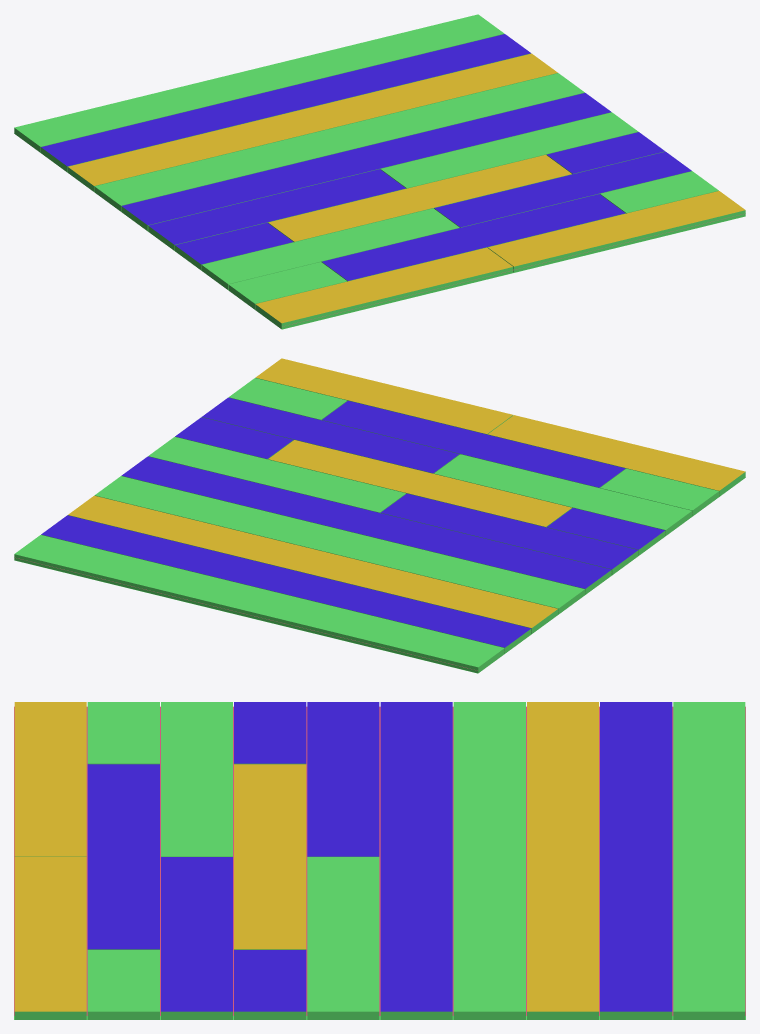
File: WoodFloor_high.fbx
3 views of the same model, one above another, from view 1: azimuth 30°, elevation 25°; view 2: azimuth 150°, elevation 25°; view 3: azimuth 270°, elevation 25° (orthographic). The views are drawn at different scales.
Parts seen in each view (by area): view 1: Plane.011; view 2: Plane.011; view 3: Plane.011.
Part boxes in pixels (left/top/right/bottom): Plane.011: left=14, top=14, right=745, bottom=329; Plane.011: left=14, top=358, right=745, bottom=673; Plane.011: left=14, top=702, right=745, bottom=1019.
Size of the model in its own units: 200 by 2.52 by 200.
